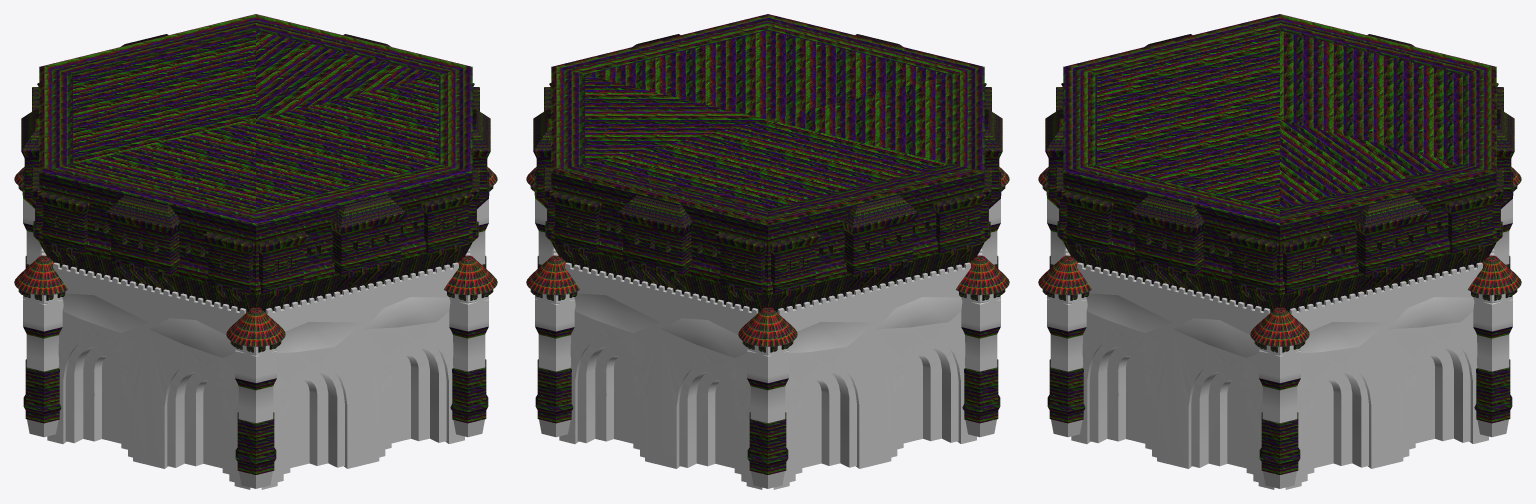
The model's file is SM_100x100Castle.fbx.
3 views of the same model, side by side, from view 1: azimuth 30°, elevation 25°; view 2: azimuth 150°, elevation 25°; view 3: azimuth 270°, elevation 25° (orthographic).
Visible parts, largest first — view 1: SM_100x100Castle_LOD0; view 2: SM_100x100Castle_LOD0; view 3: SM_100x100Castle_LOD0.
Boxes of the visible parts, left/top/right/bottom form: SM_100x100Castle_LOD0: left=14, top=14, right=497, bottom=489; SM_100x100Castle_LOD0: left=526, top=14, right=1009, bottom=489; SM_100x100Castle_LOD0: left=1038, top=14, right=1521, bottom=489.
Bounding box in the file's own units: 10352 × 9113 × 5604.
3 materials, 2 textured.
